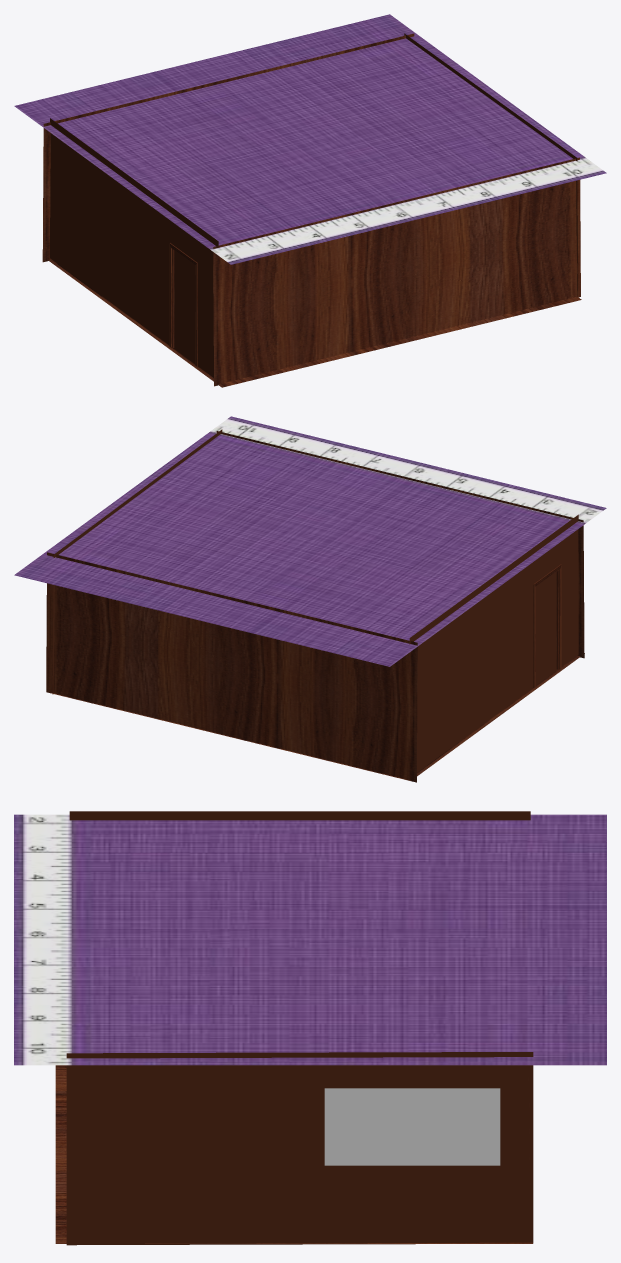
File: PhongNgu4.glb
The picture shows the model from 3 angles, top to bottom: view 1: azimuth 30°, elevation 25°; view 2: azimuth 150°, elevation 25°; view 3: azimuth 270°, elevation 25°; orthographic projection. The views are drawn at different scales.
Parts seen in each view (by area): view 1: roof, wall 3, wall2, nen, wall 4, door, wall1; view 2: roof, wall 4, wall2, wall 3, nen, door, wall1; view 3: roof, wall1, glassWindow, wall2, nen.
Part boxes in pixels (x1,y1,x2,y2): roof: [14, 14, 606, 264]; wall 3: [213, 157, 580, 386]; wall2: [50, 118, 218, 377]; nen: [48, 259, 581, 387]; wall 4: [42, 33, 414, 262]; door: [169, 243, 197, 366]; wall1: [404, 33, 577, 296]; roof: [14, 416, 606, 666]; wall 4: [46, 552, 417, 782]; wall2: [409, 514, 578, 772]; wall 3: [216, 431, 584, 658]; nen: [51, 653, 584, 780]; door: [533, 564, 561, 687]; wall1: [52, 429, 222, 694]; roof: [14, 814, 606, 1065]; wall1: [66, 1052, 533, 1245]; glassWindow: [324, 1088, 500, 1165]; wall2: [69, 811, 530, 820]; nen: [55, 1065, 532, 1243].
Size of the model in its own units: 156 by 56.87 by 156.
Materials: 10 (5 with a texture image).
